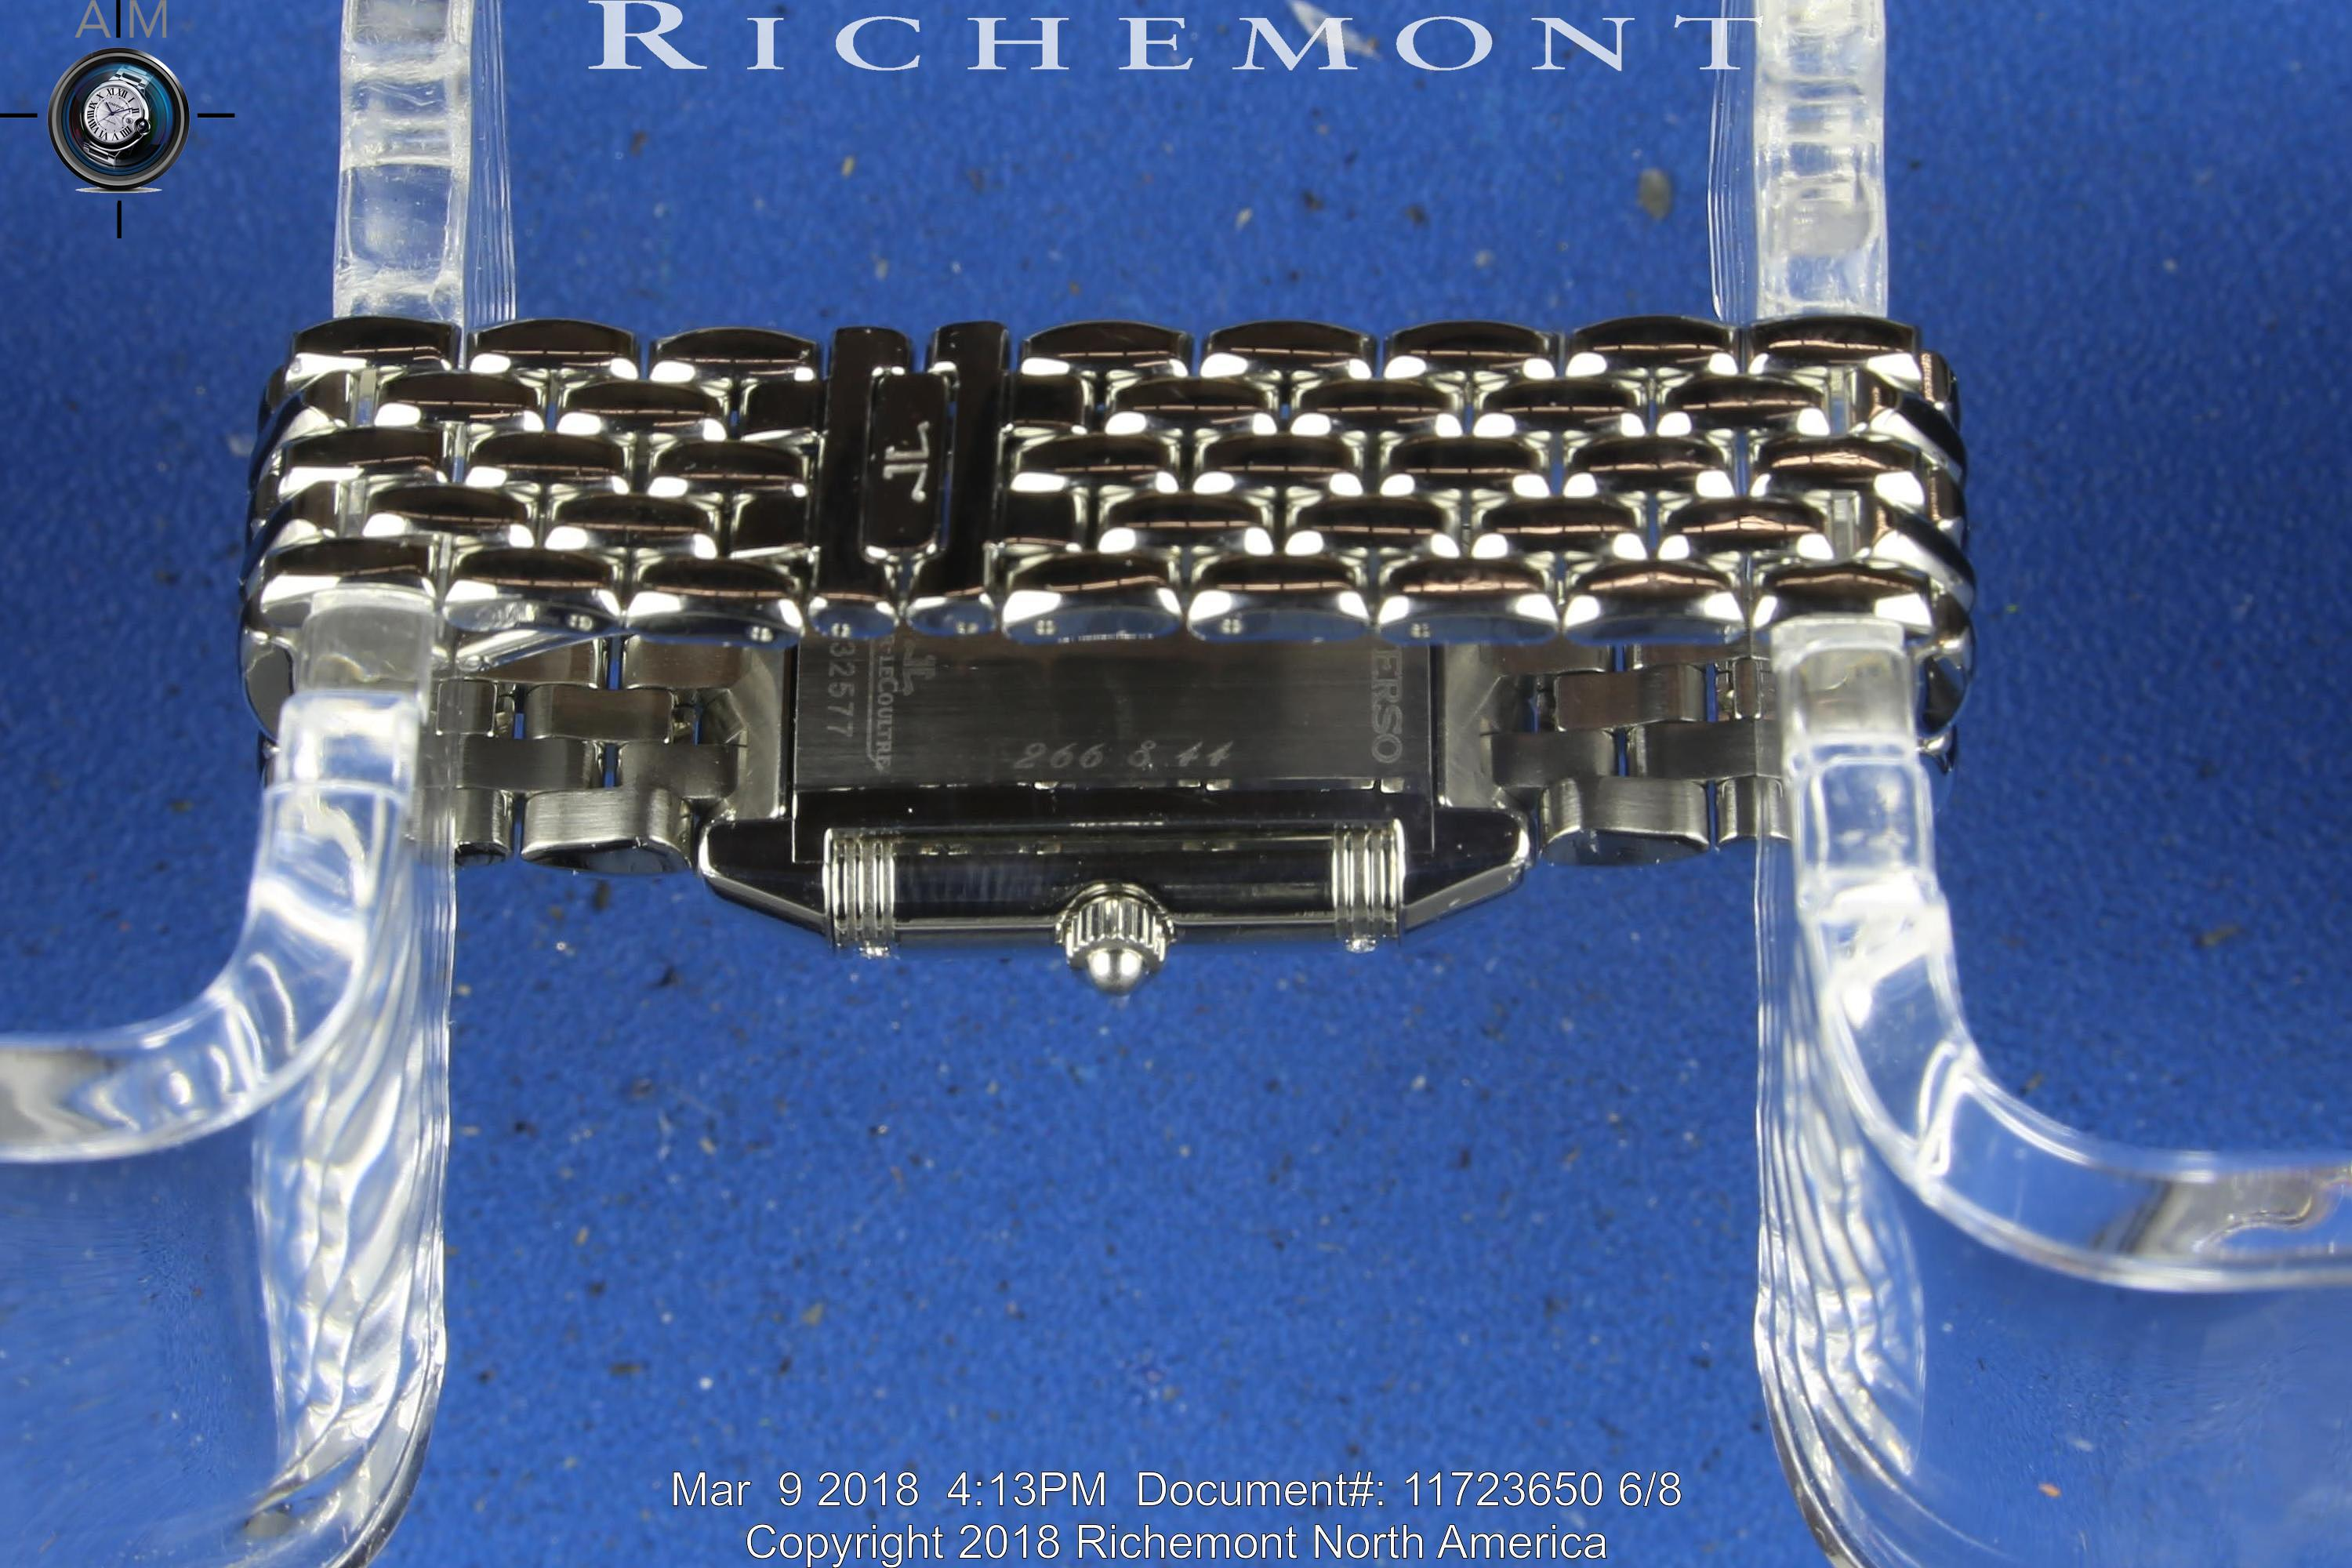Watch Back Case: (714, 632, 1535, 998)
